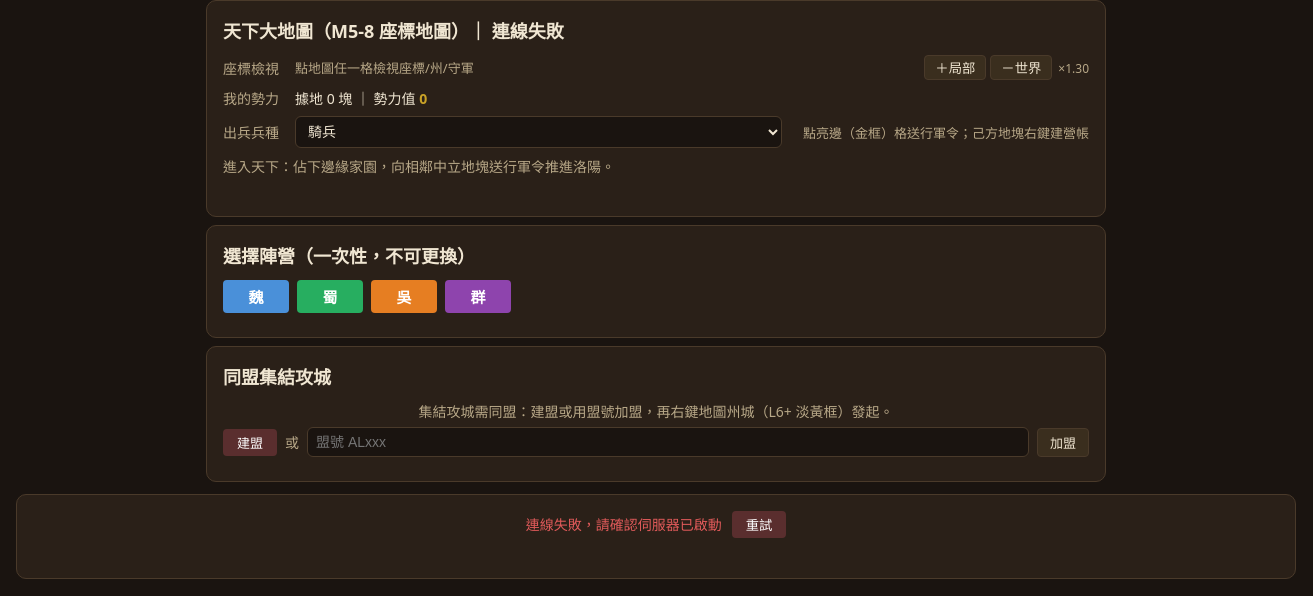
World（天下大地圖）連線逾時 + 重試 › 點重試會關閉舊 socket、重新嘗試連線
Click the button "重試".
click(759, 524)  # box left=732, top=511, right=786, bottom=538
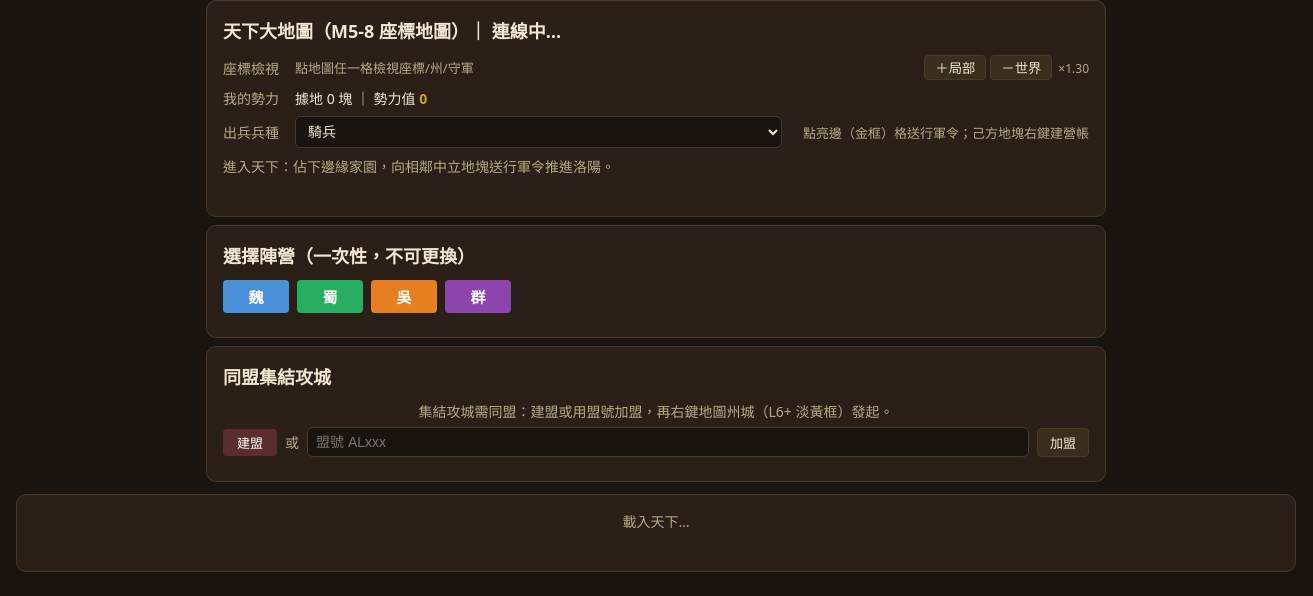
Expected: the heading "天下大地圖（M5-8 座標地圖）｜ 連線中…" is shown, left=223, top=19, right=561, bottom=43
Expected: the text "連線失敗，請確認伺服器已啟動" is gone
